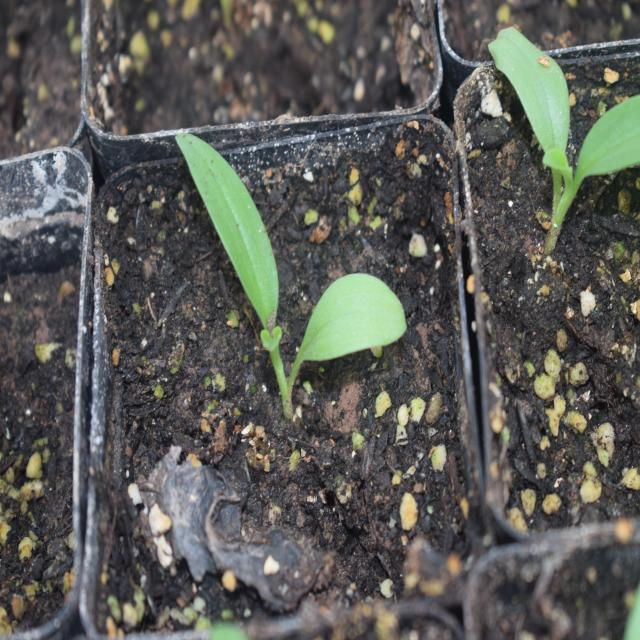Common Dayflower: (172, 132, 408, 392)
